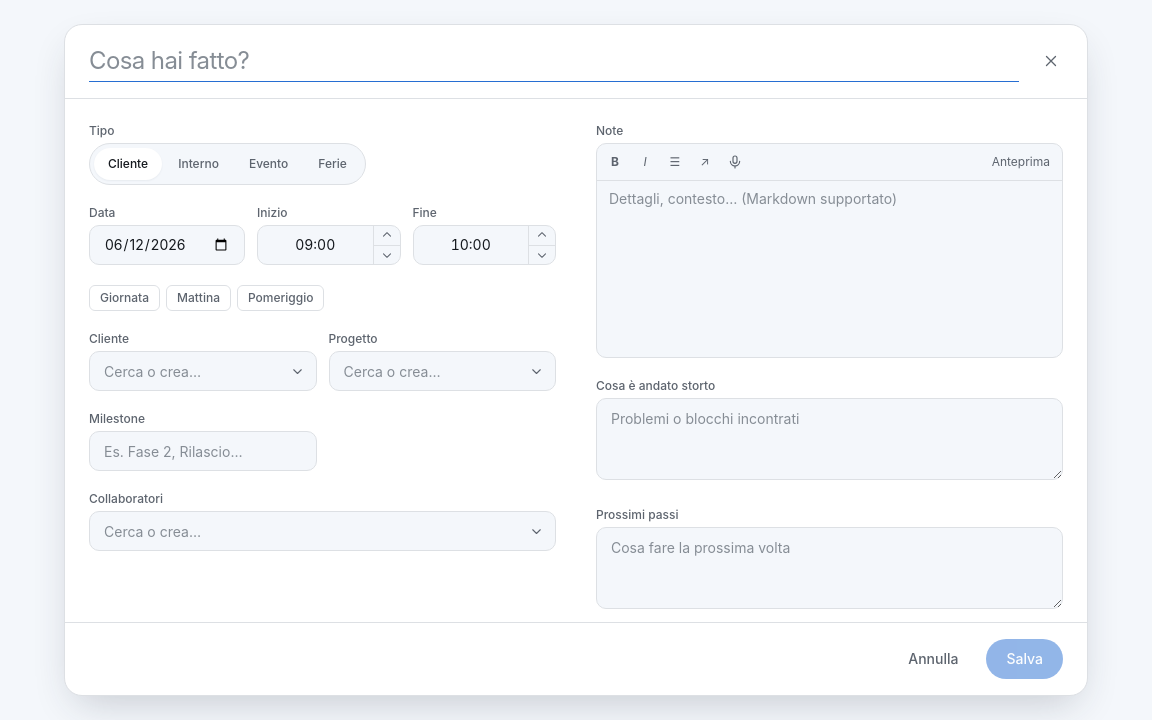
EntryEditor › la cascata: scegliendo un progetto deriva il cliente
Focus the dropdown named "Progetto" at (442, 371), box [328,351,556,391]
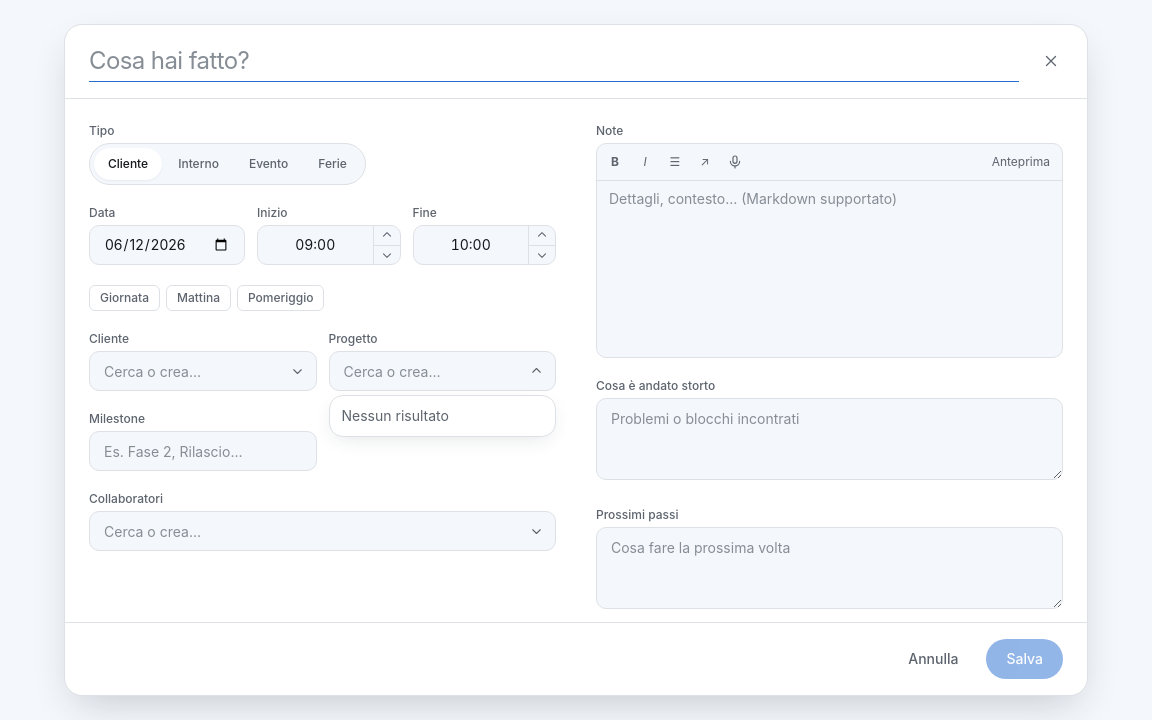
Expected: the option "Sito" is not shown
// Scegliendo il cliente Acme, compare il suo progetto Sito.
Focus the dropdown named "Cliente" at (203, 371), box [89,351,316,391]
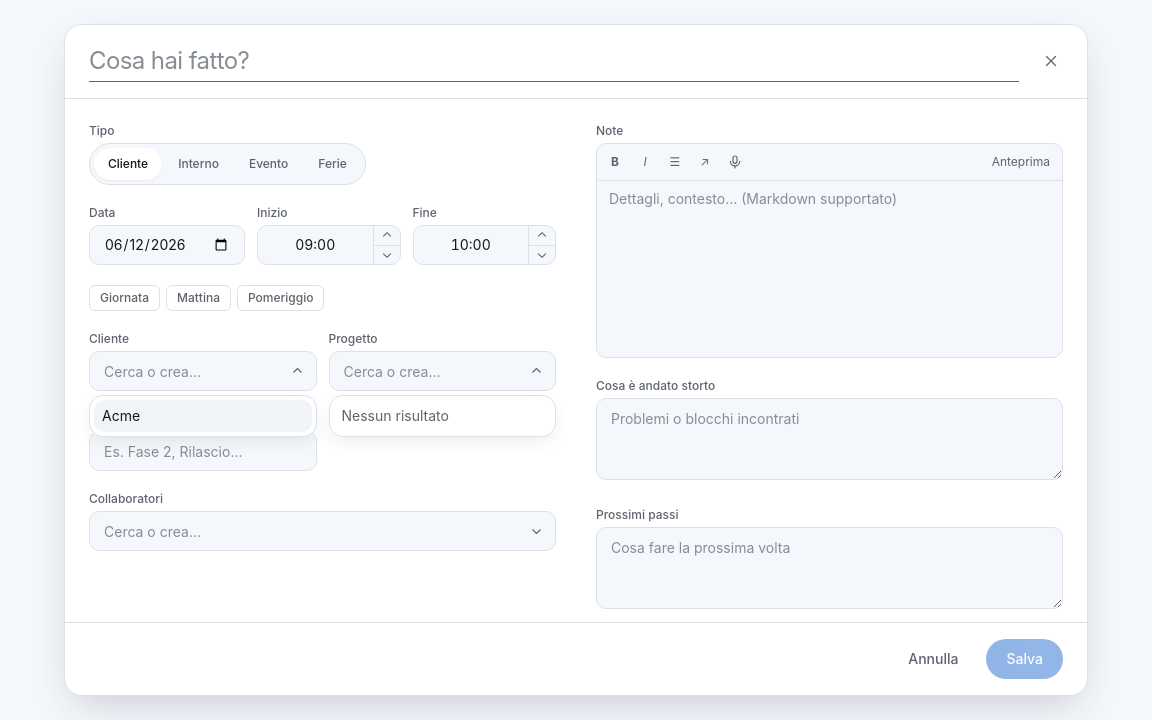
Press the mouse on the option "Acme" at (203, 416), box [94,400,312,432]
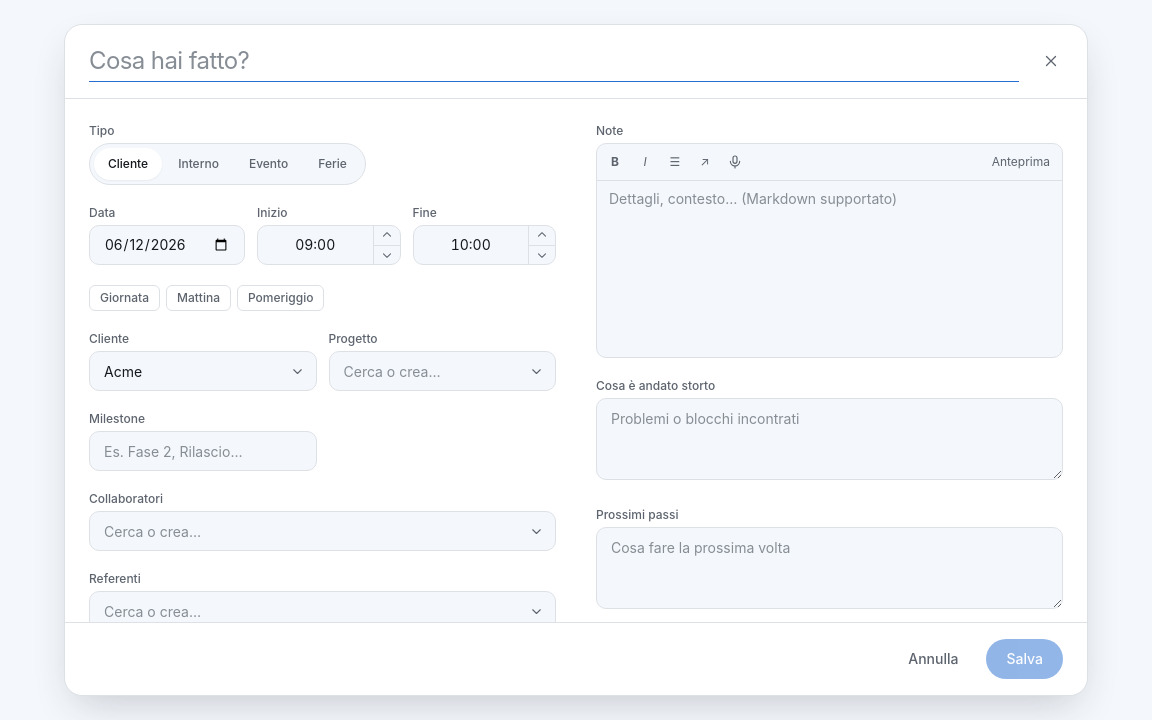
Focus the dropdown named "Progetto" at (442, 371), box [328,351,556,391]
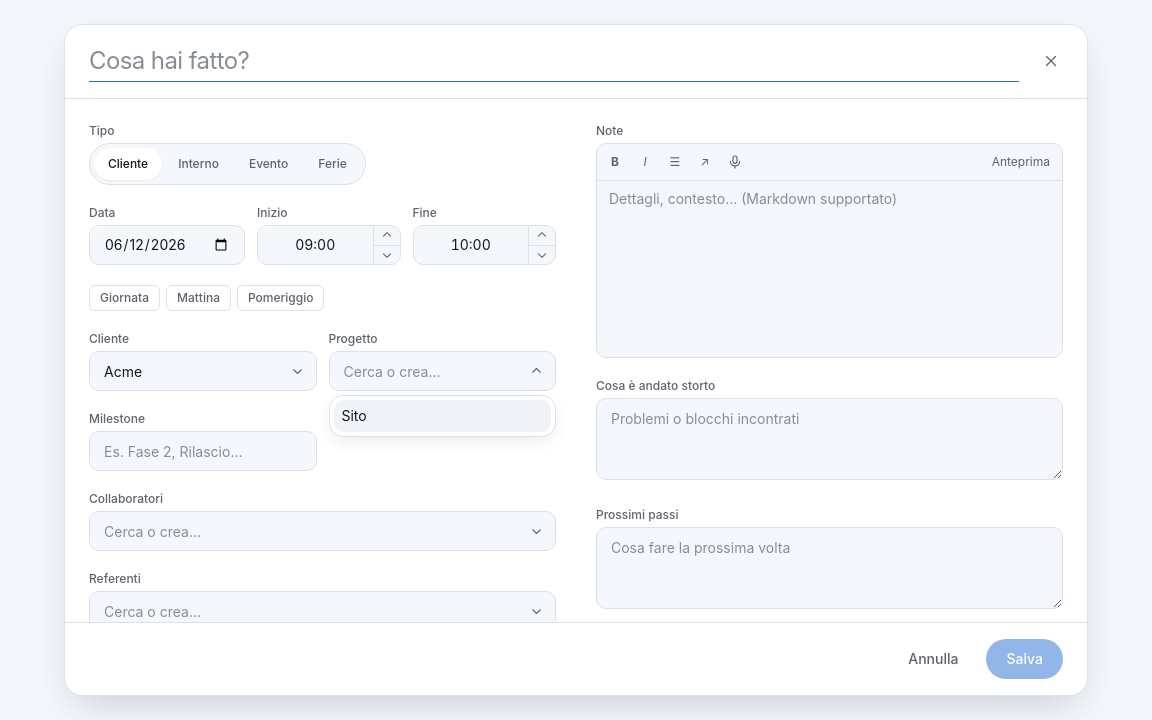
Now the option "Sito" is shown, box [334,400,551,432]
